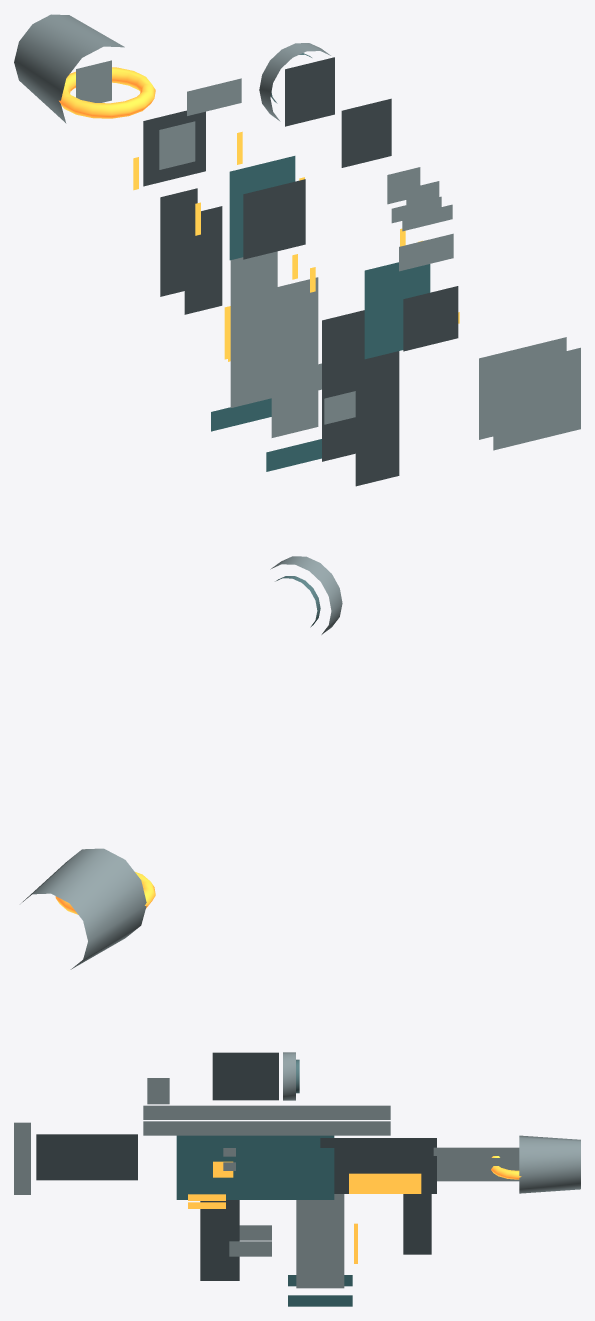
The model's file is AEGIS_PrecisionCarbine.gltf.
The picture shows the model from 3 angles, top to bottom: view 1: azimuth 30°, elevation 25°; view 2: azimuth 150°, elevation 25°; view 3: azimuth 270°, elevation 25°; orthographic projection. The views are drawn at different scales.
Visible parts, largest first — view 1: Magazine, Pistol grip, Recoil pad, Monolithic receiver, Handguard, Foregrip, Optic housing, Muzzle brake, Adjustable stock, Barrel shroud, Upper rail, Muzzle ion ring (+5 smaller); view 2: Muzzle brake, Optic lens bezel; view 3: Monolithic receiver, Upper rail, Adjustable stock, Handguard, Magazine, Muzzle brake, Optic housing, Pistol grip, Barrel shroud, Foregrip, R heat vent, Recoil pad (+5 smaller).
Boxes of the visible parts, box(x1,y1,x2,y2) form: Magazine: box(230, 251, 318, 437); Pistol grip: box(322, 310, 399, 486); Recoil pad: box(479, 337, 580, 450); Monolithic receiver: box(229, 156, 430, 359); Handguard: box(143, 110, 305, 259); Foregrip: box(160, 188, 222, 314); Optic housing: box(285, 57, 391, 167); Muzzle brake: box(14, 14, 124, 123); Adjustable stock: box(403, 286, 458, 351); Barrel shroud: box(76, 60, 195, 169); Upper rail: box(187, 78, 453, 271); Muzzle ion ring: box(59, 67, 155, 118); Muzzle brake: box(22, 848, 146, 969); Optic lens bezel: box(270, 556, 342, 634); Monolithic receiver: box(176, 1135, 334, 1199); Upper rail: box(143, 1105, 390, 1135); Adjustable stock: box(36, 1134, 137, 1180); Handguard: box(320, 1138, 436, 1193); Magazine: box(296, 1194, 344, 1288); Muzzle brake: box(519, 1135, 580, 1193); Optic housing: box(212, 1052, 278, 1100); Pistol grip: box(200, 1200, 239, 1280); Barrel shroud: box(433, 1147, 519, 1181); Foregrip: box(403, 1194, 431, 1254); R heat vent: box(349, 1173, 421, 1193); Recoil pad: box(14, 1122, 30, 1194).
Bounding box in the file's own units: 0.315 × 0.8245 × 1.75.
